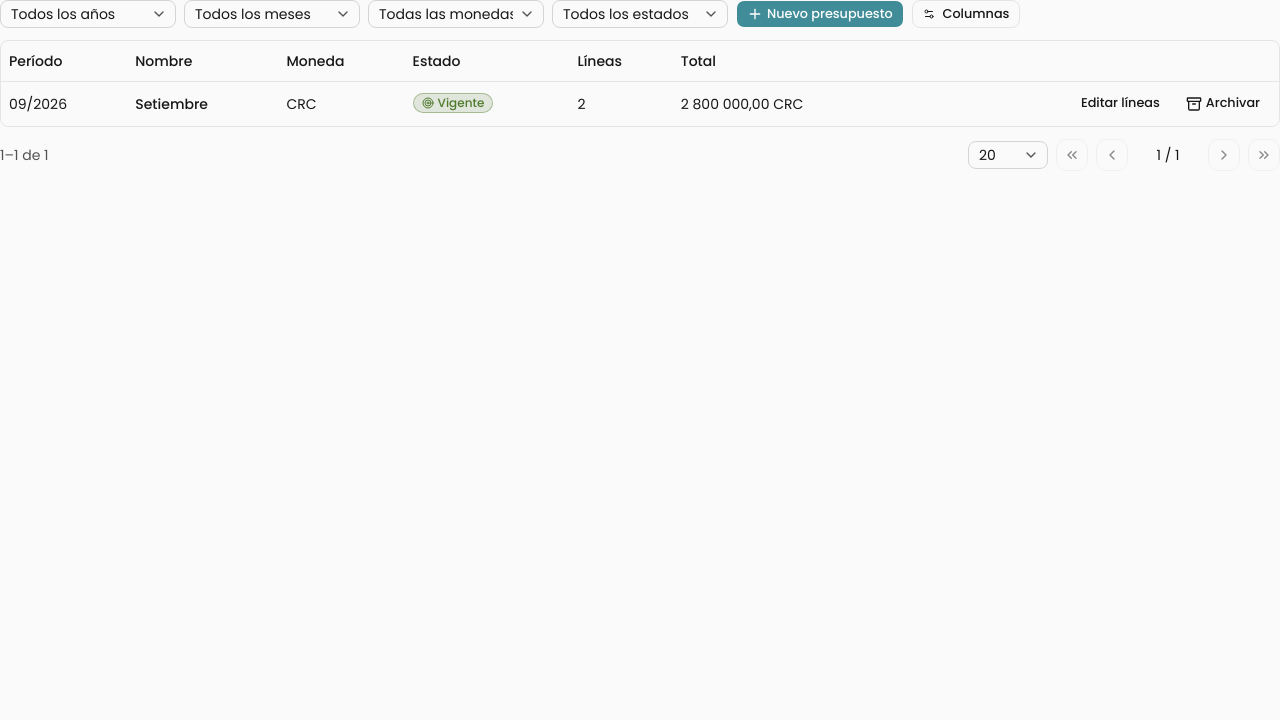
Test: FinanceBudgets — un presupuesto no se borra: se archiva › pide confirmación y explica que la variación sigue comparando contra él
Later steps or results of the test are not shown.
Click the button "Archivar" at (1223, 104), box [1175,90,1271,118]
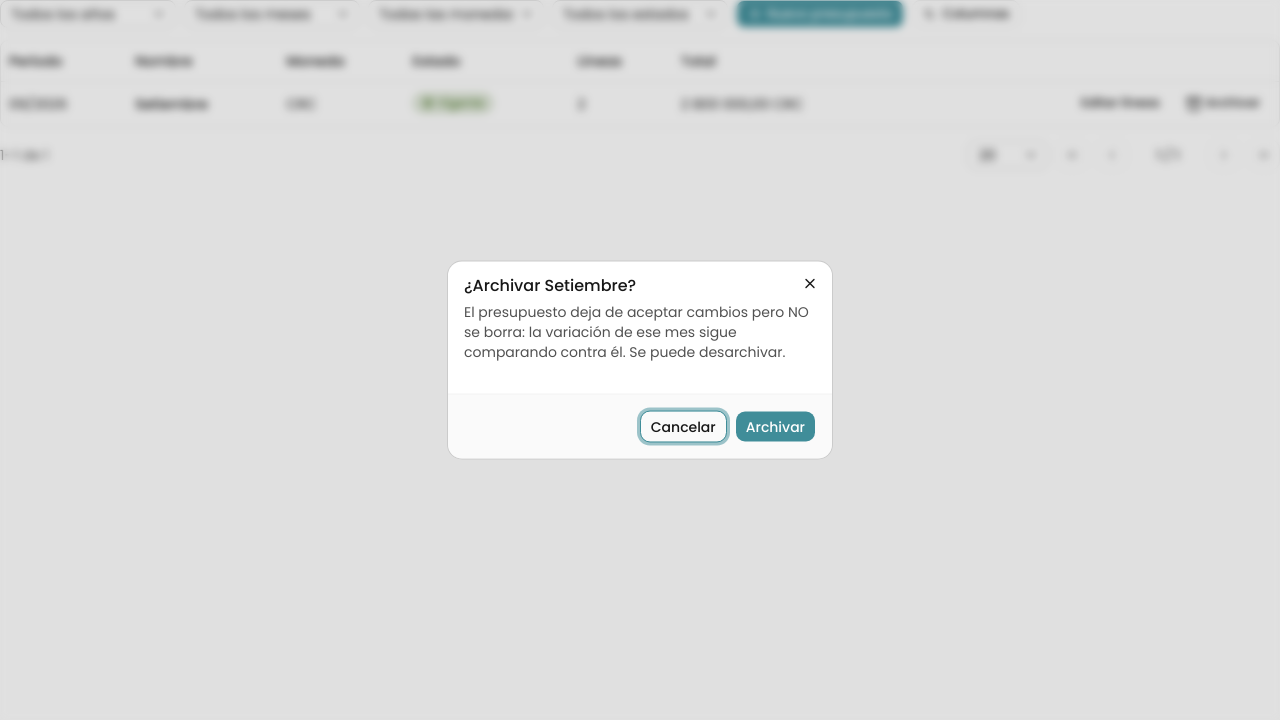
expect the heading "¿Archivar Setiembre?" is shown: met, box [464,274,636,296]
expect the text "NO se borra" is shown: met, box [464,302,809,362]
